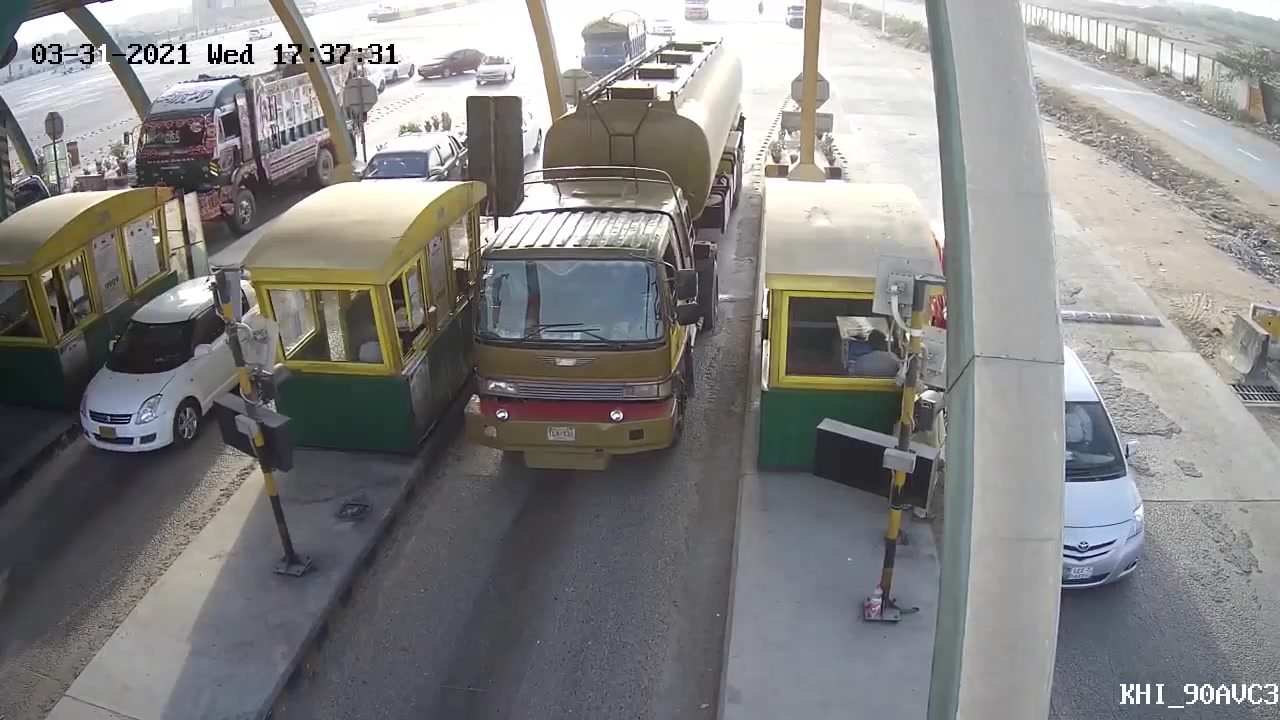F6: (459, 31, 754, 478)
